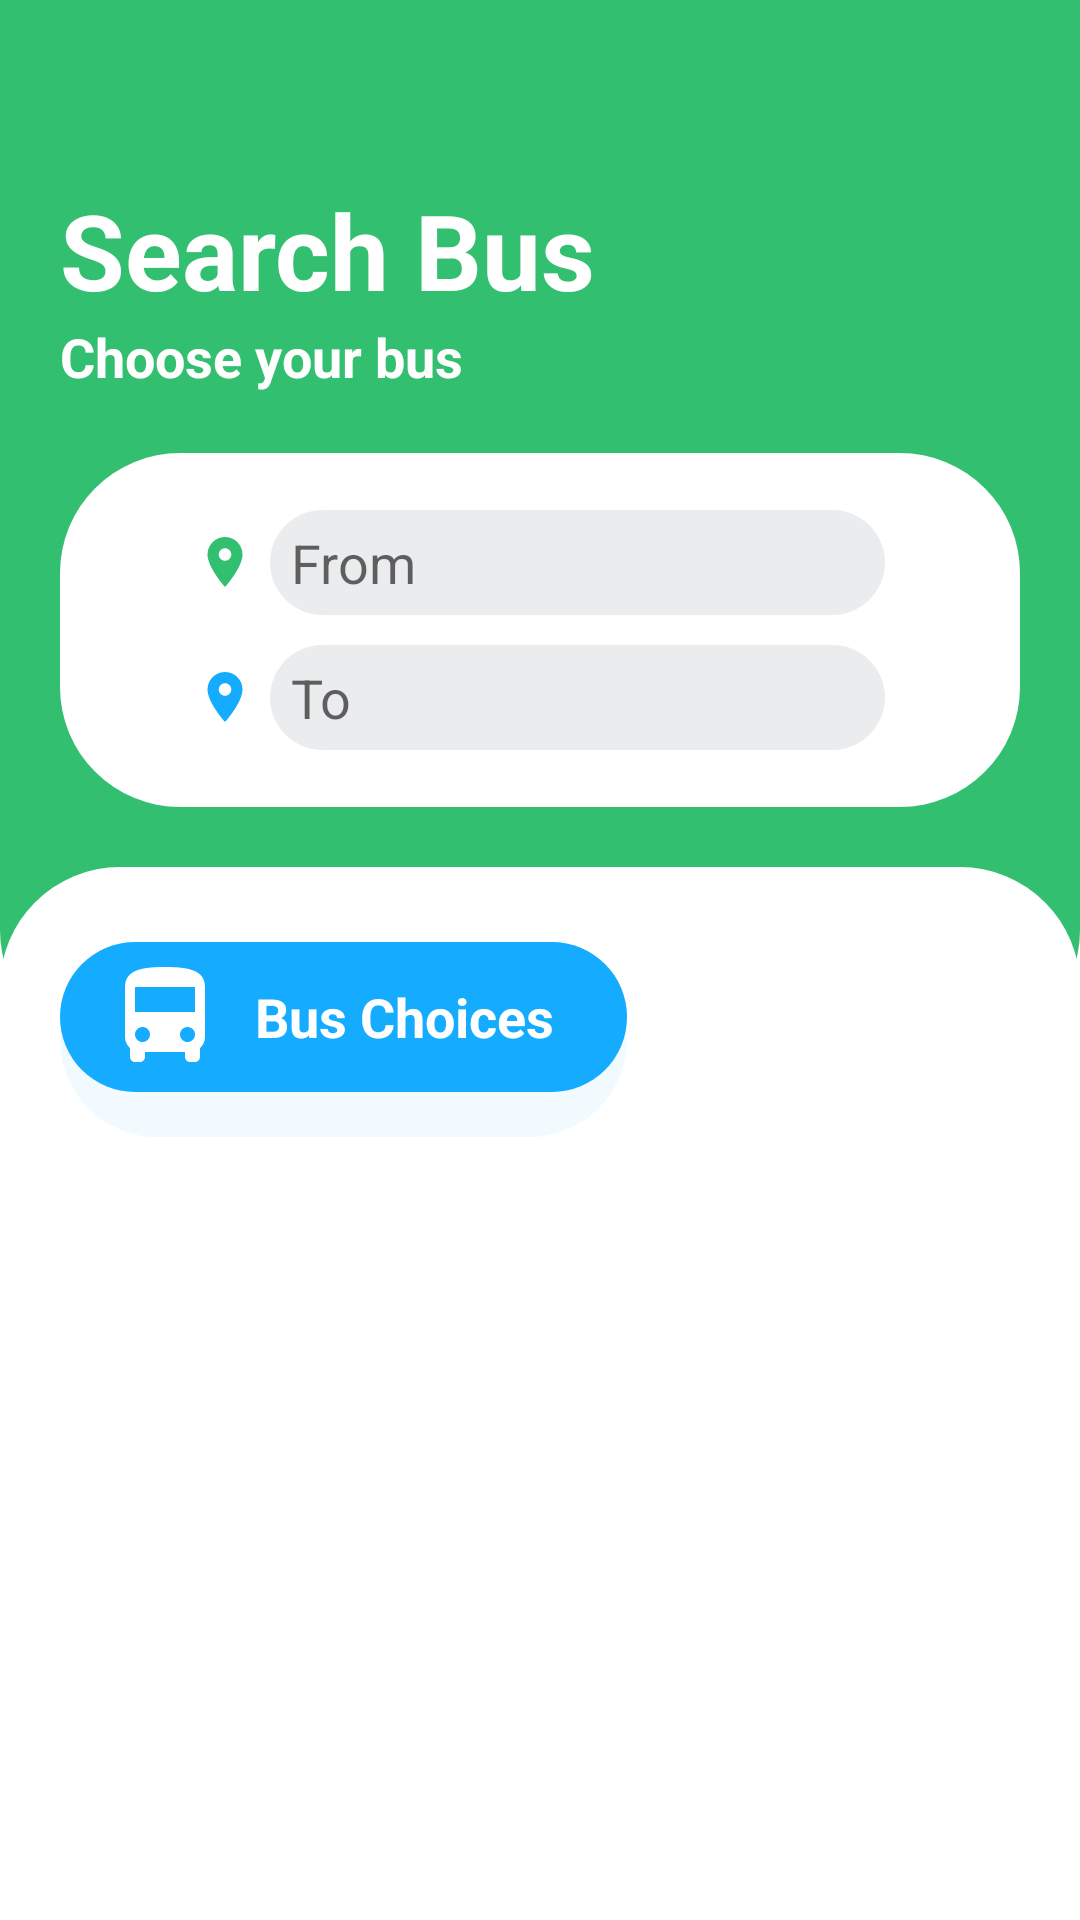

Screen size 1080px x 1920px. Icon name, then its center in pixels as [x,y]:
directions bus: [165,1014]
